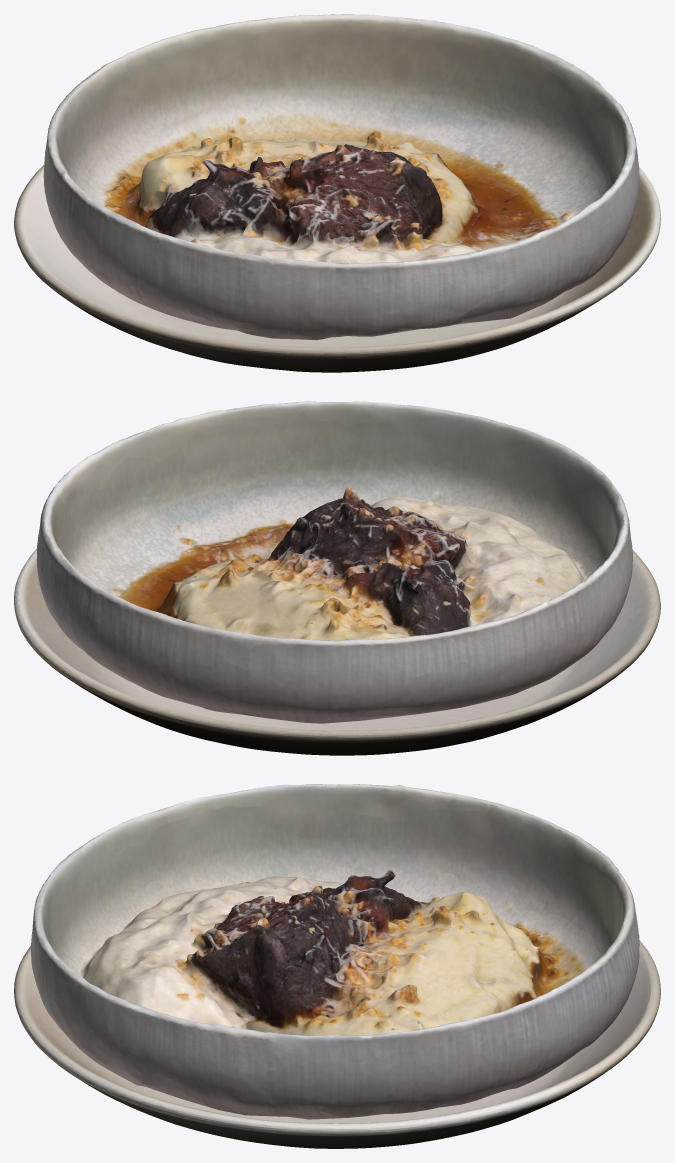
The model's file is set.Braised.beef.001.glb.
The picture shows the model from 3 angles, top to bottom: view 1: azimuth 30°, elevation 25°; view 2: azimuth 150°, elevation 25°; view 3: azimuth 270°, elevation 25°; orthographic projection.
Parts seen in each view (by area): view 1: /Root/Scenes/Scene/Object_1536/Object_1537/Submesh_0, /Root/Scenes/Scene/Object_1536/Object_1891/Object_1892/Subme; view 2: /Root/Scenes/Scene/Object_1536/Object_1537/Submesh_0, /Root/Scenes/Scene/Object_1536/Object_1891/Object_1892/Subme; view 3: /Root/Scenes/Scene/Object_1536/Object_1537/Submesh_0, /Root/Scenes/Scene/Object_1536/Object_1891/Object_1892/Subme.
Boxes of the visible parts, x1,y1,x2,y2 form: /Root/Scenes/Scene/Object_1536/Object_1537/Submesh_0: (43, 14, 639, 340); /Root/Scenes/Scene/Object_1536/Object_1891/Object_1892/Subme: (14, 165, 660, 372); /Root/Scenes/Scene/Object_1536/Object_1537/Submesh_0: (36, 401, 632, 723); /Root/Scenes/Scene/Object_1536/Object_1891/Object_1892/Subme: (14, 549, 660, 755); /Root/Scenes/Scene/Object_1536/Object_1537/Submesh_0: (31, 784, 639, 1119); /Root/Scenes/Scene/Object_1536/Object_1891/Object_1892/Subme: (14, 940, 660, 1148).
Bounding box in the file's own units: 0.2567 × 0.0647 × 0.2501.
2 materials, 2 textured.
